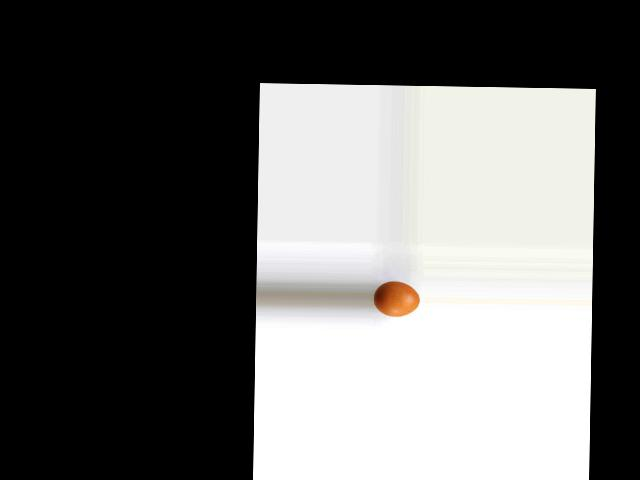egg: (373, 280, 419, 316)
